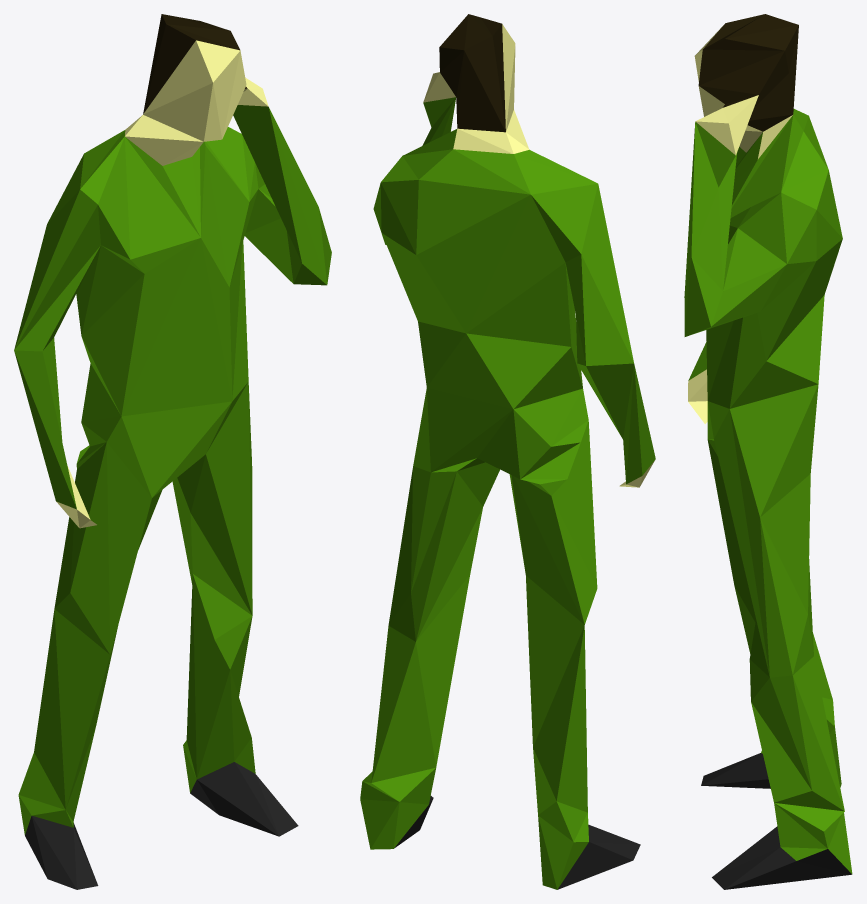
Rendered from low_poly_man.obj.
The picture shows the model from 3 angles, left to right: view 1: azimuth 30°, elevation 25°; view 2: azimuth 150°, elevation 25°; view 3: azimuth 270°, elevation 25°; orthographic projection. The views are drawn at different scales.
Parts seen in each view (by area): view 1: instance_1_ID5, instance_1.002_ID21, instance_1.001_ID13, instance_1.005_ID43, instance_1.003_ID29, instance_1.004_ID37; view 2: instance_1_ID5, instance_1.003_ID29, instance_1.002_ID21, instance_1.005_ID43; view 3: instance_1_ID5, instance_1.003_ID29, instance_1.001_ID13, instance_1.002_ID21, instance_1.005_ID43, instance_1.004_ID37, instance_1.006_ID49.
Part boxes in pixels (bbox=[...]): instance_1_ID5: bbox=[14, 105, 331, 834]; instance_1.002_ID21: bbox=[125, 40, 268, 165]; instance_1.001_ID13: bbox=[190, 762, 298, 836]; instance_1.005_ID43: bbox=[25, 816, 98, 889]; instance_1.003_ID29: bbox=[143, 14, 247, 113]; instance_1.004_ID37: bbox=[56, 465, 96, 528]; instance_1_ID5: bbox=[360, 97, 655, 889]; instance_1.003_ID29: bbox=[439, 14, 505, 132]; instance_1.002_ID21: bbox=[423, 24, 529, 153]; instance_1.005_ID43: bbox=[557, 824, 640, 889]; instance_1_ID5: bbox=[684, 109, 852, 873]; instance_1.003_ID29: bbox=[698, 14, 798, 131]; instance_1.001_ID13: bbox=[712, 826, 851, 889]; instance_1.002_ID21: bbox=[694, 26, 762, 155]; instance_1.005_ID43: bbox=[701, 753, 770, 788]; instance_1.004_ID37: bbox=[688, 369, 707, 423]; instance_1.006_ID49: bbox=[758, 115, 792, 158].
Size of the model in its own units: 0.609 by 1.65 by 0.3065.
